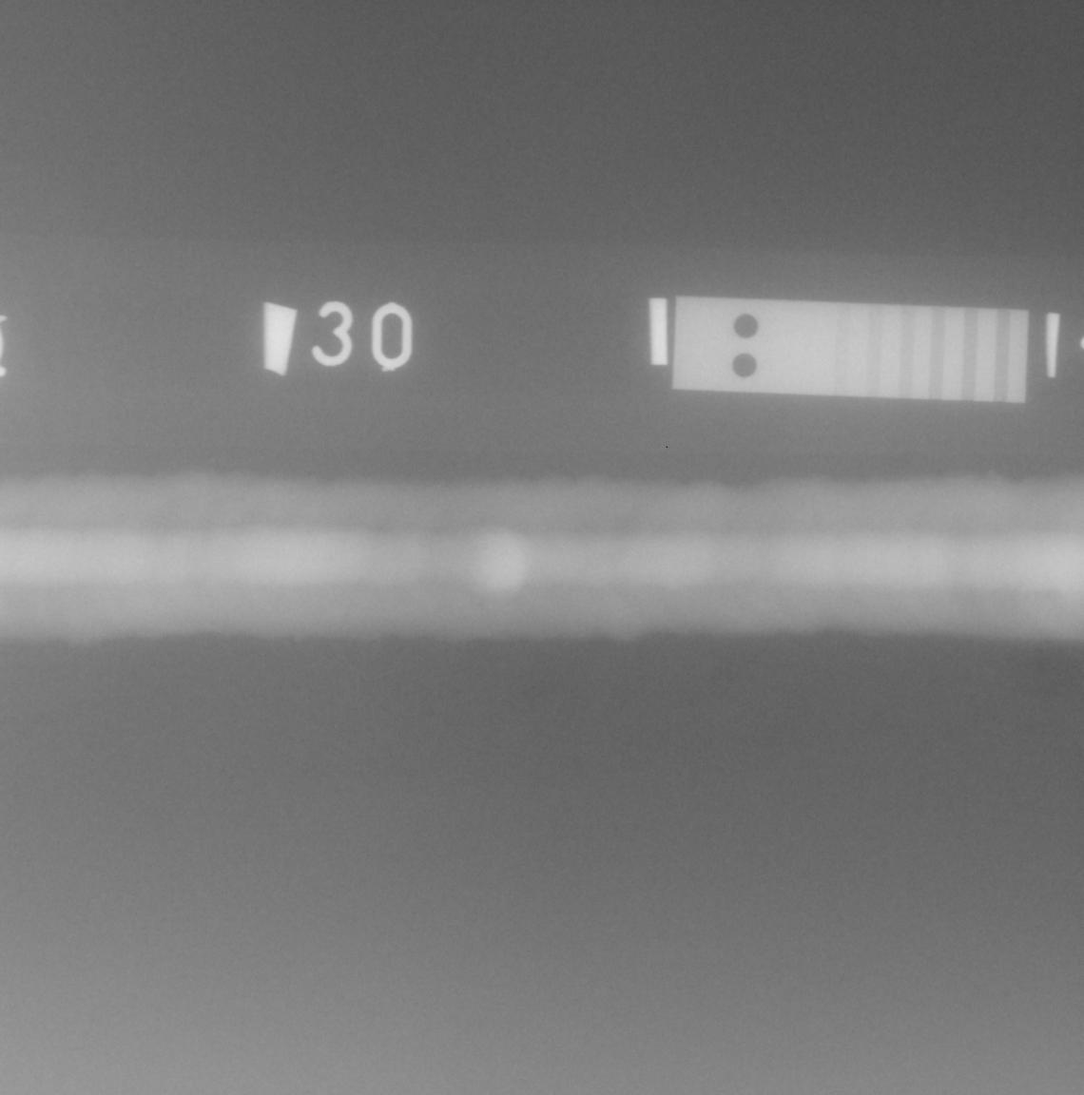Reference Standard 2: (672, 296, 1028, 403)
